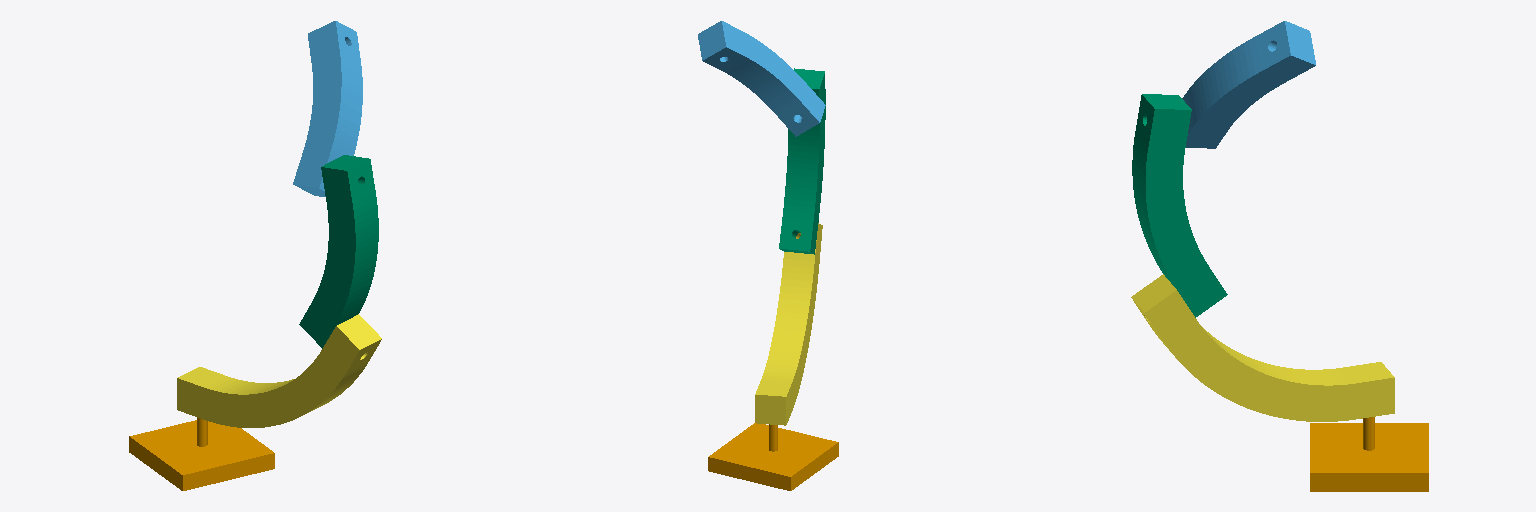
URDF robot description (spherical_manipulator):
<?xml version="1.0" encoding="utf-8" ?>
<robot name="spherical_manipulator">
    <!-- Base Link -->
    <link name="base">
        <inertial>
            <origin xyz="-0.015 0.015 0.00273" rpy="0.0 0.0 0.0" />
            <mass value="50.036157" />
            <inertia ixx="2.82e-03" iyy="2.82e-03" izz="5.3e-03" ixy="0.0" iyz="0.0" ixz="0.0" />
        </inertial>
        <visual>
            <origin xyz="0.0 0.0 0.0" rpy="0.0 0.0 0.0" />
            <geometry>
                <mesh filename="package://my_spherical_manipulator/meshes/base.stl" scale="0.001 0.001 0.001" />
            </geometry>
        </visual>
        <collision>
            <origin xyz="0.0 0.0 0.0" rpy="0.0 0.0 0.0" />
            <geometry>
                <mesh filename="package://my_spherical_manipulator/meshes/base.stl" scale="0.001 0.001 0.001" />
            </geometry>
        </collision>
        <!-- Gazebo-specific properties -->
        <gazebo>
            <material>Gazebo/Blue</material>
        </gazebo>
    </link>
    <!-- Small Link -->
    <link name="small">
        <inertial>
            <origin xyz="-0.0154 -0.01326 -0.00339" rpy="0.0 0.0 0.0" />
            <mass value="0.0372" />
            <inertia ixx="4.05e-03" iyy="4.0e-03" izz="7.31e-03" ixy="0.0" iyz="0.0" ixz="0.0" />
        </inertial>
        <visual>
            <origin xyz="-0.03017 0.0035 -0.05223" rpy="0.3729 1.0069 2.8111" />
            <geometry>
                <mesh filename="package://my_spherical_manipulator/meshes/small.stl" scale="0.001 0.001 0.001" />
            </geometry>
        </visual>
        <collision>
            <origin xyz="-0.03017 0.0035 -0.05223" rpy="0.3729 1.0069 2.8111" />
            <geometry>
                <mesh filename="package://my_spherical_manipulator/meshes/small.stl" scale="0.001 0.001 0.001" />
            </geometry>
        </collision>
    </link>
    <!-- Medium Link -->
    <link name="medium">
        <inertial>
            <origin xyz="0.00104 -0.02517 0.0023" rpy="0.0 0.0 0.0" />
            <mass value="0.0447" />
            <inertia ixx="1.235e-02" iyy="1.28e-03" izz="1.19e-02" ixy="0.0" iyz="0.0" ixz="0.0" />
        </inertial>
        <visual>
            <origin xyz="-0.00343 -0.03421 -0.04968" rpy="1.2088 1.0221 -1.8593" />
            <geometry>
                <mesh filename="package://my_spherical_manipulator/meshes/medium.stl" scale="0.001 0.001 0.001" />
            </geometry>
        </visual>
        <collision>
            <origin xyz="-0.00343 -0.03421 -0.04968" rpy="1.2088 1.0221 -1.8593" />
            <geometry>
                <mesh filename="package://my_spherical_manipulator/meshes/medium.stl" scale="0.001 0.001 0.001" />
            </geometry>
        </collision>
    </link>
    <!-- Large Link -->
    <link name="large">
        <inertial>
            <origin xyz="0.01046 -0.02854 0.01198" rpy="0.0 0.0 0.0" />
            <mass value="0.0598" />
            <inertia ixx="2.58e-02" iyy="1.05e-02" izz="2.1e-02" ixy="0.0" iyz="0.0" ixz="0.0" />
        </inertial>
        <visual>
            <origin xyz="-0.00297 -0.006415 0.056" rpy="-2.79 -1.57 0.0" />
            <geometry>
                <mesh filename="package://my_spherical_manipulator/meshes/large.stl" scale="0.001 0.001 0.001" />
            </geometry>
        </visual>
        <collision>
            <origin xyz="-0.00297 -0.006415 0.056" rpy="-2.79 -1.57 0.0" />
            <geometry>
                <mesh filename="package://my_spherical_manipulator/meshes/large.stl" scale="0.001 0.001 0.001" />
            </geometry>
        </collision>
    </link>
    <!-- Joints -->
    <joint name="base_Revolute_1" type="continuous">
        <origin xyz="-0.015 0.015 0.02" rpy="0.0 0.0 0.0" />
        <parent link="base" />
        <child link="large" />
        <axis xyz="0.0 0.0 1.0" />
        <limit effort="300" velocity="1.0" />
        <dynamics damping="0.1" friction="0.1" />
    </joint>
    <joint name="large_Revolute_2" type="continuous">
        <origin xyz="0.01749 -0.0477 0.03533" rpy="-1.57 0.0 -2.618" />
        <parent link="large" />
        <child link="medium" />
        <axis xyz="-0.148 -0.5 -0.853" />
        <limit effort="300" velocity="1.0" />
        <dynamics damping="0.1" friction="0.1" />
    </joint>
    <joint name="medium_Revolute_3" type="continuous">
        <origin xyz="0.0009125 -0.04792 -0.001272" rpy="0.0 -0.349 0.0" />
        <parent link="medium" />
        <child link="small" />
        <axis xyz="-0.506 0.173 -0.845" />
        <limit effort="300" velocity="1.0" />
        <dynamics damping="0.1" friction="0.1" />
    </joint>
    <!-- Transmissions -->
    <transmission name="base_Revolute_1_trans">
        <type>transmission_interface/SimpleTransmission</type>
        <joint name="base_Revolute_1">
            <hardwareInterface>hardware_interface/PositionJointInterface</hardwareInterface>
        </joint>
        <actuator name="base_Revolute_1_motor">
            <mechanicalReduction>1</mechanicalReduction>
            <hardwareInterface>hardware_interface/PositionJointInterface</hardwareInterface>
        </actuator>
    </transmission>
    <transmission name="large_Revolute_2_trans">
        <type>transmission_interface/SimpleTransmission</type>
        <joint name="large_Revolute_2">
            <hardwareInterface>hardware_interface/PositionJointInterface</hardwareInterface>
        </joint>
        <actuator name="large_Revolute_2_motor">
            <mechanicalReduction>1</mechanicalReduction>
            <hardwareInterface>hardware_interface/PositionJointInterface</hardwareInterface>
        </actuator>
    </transmission>
    <transmission name="medium_Revolute_3_trans">
        <type>transmission_interface/SimpleTransmission</type>
        <joint name="medium_Revolute_3">
            <hardwareInterface>hardware_interface/PositionJointInterface</hardwareInterface>
        </joint>
        <actuator name="medium_Revolute_3_motor">
            <mechanicalReduction>1</mechanicalReduction>
            <hardwareInterface>hardware_interface/PositionJointInterface</hardwareInterface>
        </actuator>
    </transmission>
    <gazebo>
        <plugin name="gazebo_ros_control" filename="libgazebo_ros_control.so">
            <robotNamespace>/</robotNamespace>
        </plugin>
    </gazebo>
</robot>

--- What the picture shows (computed from the rendered views, not written in the file) ---
3 views of the same robot in one strip: view 1: azimuth 30°, elevation 25°; view 2: azimuth 150°, elevation 25°; view 3: azimuth 270°, elevation 25° (orthographic).
Robot: spherical_manipulator — 4 links, 3 joints (3 continuous); root link base; default pose: all joints at 0.
Visible links, largest first — view 1: large, medium, small, base; view 2: large, small, base, medium; view 3: large, medium, base, small.
Link boxes in pixels (x1=…): large: x1=177, y1=314, x2=381, y2=427; medium: x1=299, y1=155, x2=378, y2=348; small: x1=293, y1=21, x2=362, y2=196; base: x1=129, y1=417, x2=274, y2=490; large: x1=755, y1=223, x2=822, y2=425; small: x1=698, y1=21, x2=825, y2=136; base: x1=708, y1=423, x2=838, y2=490; medium: x1=779, y1=68, x2=825, y2=254; large: x1=1131, y1=274, x2=1394, y2=421; medium: x1=1132, y1=94, x2=1227, y2=317; base: x1=1310, y1=417, x2=1428, y2=491; small: x1=1182, y1=21, x2=1315, y2=148.
Bounding box of the posed robot: 0.0539 × 0.0749 × 0.1381 m (x, y, z).
Meshes: 4 distinct files referenced, 4 mesh visuals loaded (4 binary STL).